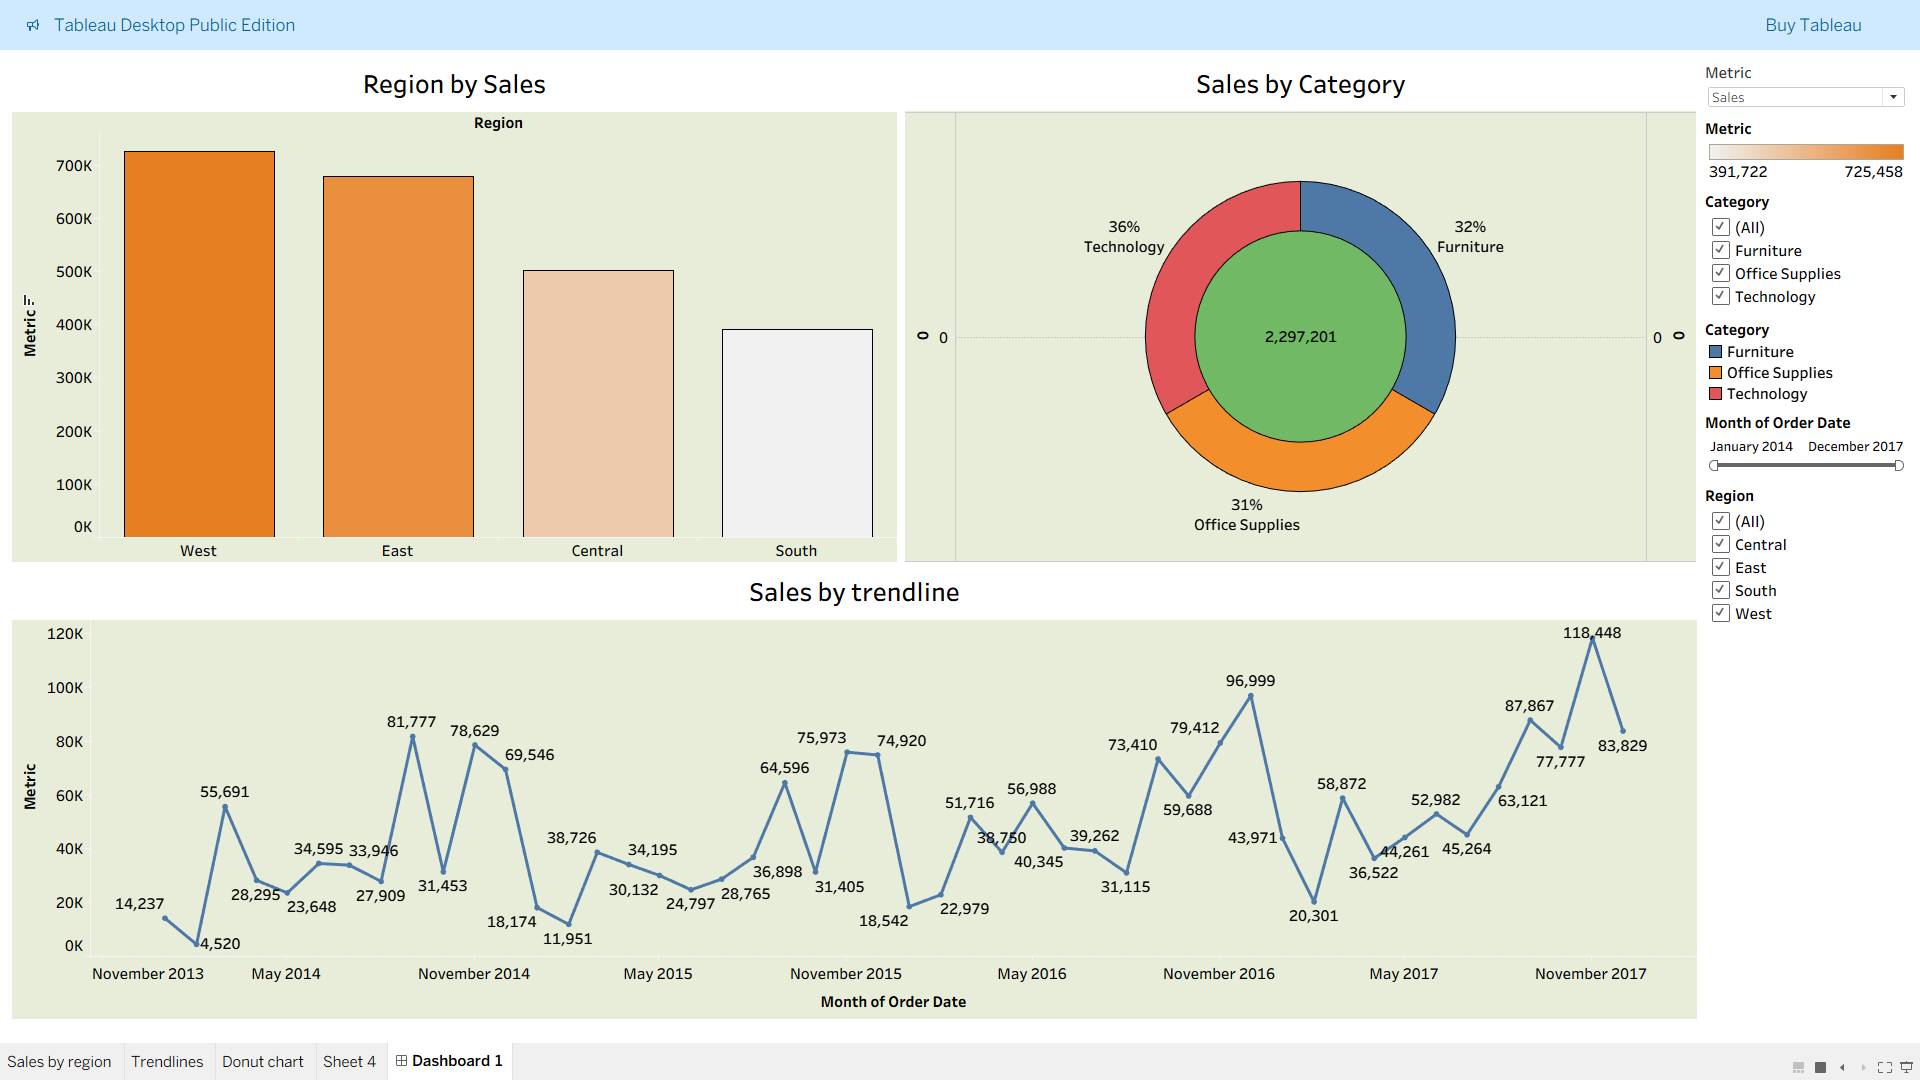

The dashboard page shown, as its layout file describes it:
{"tool":"tableau","page":{"name":"Dashboard 1","canvas":[1000,1000],"units":"permille","ordinal":0},"visuals":[{"type":"worksheet","title":"Sales by region","mark":"Automatic","rows":["Calculation_1356427972934144000"],"cols":["Region"],"box":[4.8,10,455.2,509.3]},{"type":"worksheet","title":"Donut chart","mark":"Pie","rows":["Calculation_1356427972934643714","Calculation_1356427972934656004"],"box":[460,10,407.8,509.3]},{"type":"parameter","param":"[Parameters].[Parameter 1]","box":[867.8,10,127.3,69.9]},{"type":"legend","title":"Sales by region","param":"[federated.14wa6ky1psx4jk1g5do9a17mbfk6].[sum:Calculation_1356427972934144000:qk","box":[867.8,79.9,127.3,91.1]},{"type":"filter","title":"Donut chart","param":"[federated.14wa6ky1psx4jk1g5do9a17mbfk6].[none:Category:nk]","box":[867.8,171.1,127.3,159.8]},{"type":"legend","title":"Donut chart","param":"[federated.14wa6ky1psx4jk1g5do9a17mbfk6].[none:Category:nk]","box":[867.8,330.9,127.3,116.1]},{"type":"filter","title":"Trendlines","param":"[federated.14wa6ky1psx4jk1g5do9a17mbfk6].[tmn:Order Date:qk]","box":[867.8,447,127.3,91.1]},{"type":"worksheet","title":"Trendlines","mark":"Automatic","rows":["Calculation_1356427972934144000"],"cols":["Order Date"],"box":[4.8,519.3,863,470.7]},{"type":"filter","title":"Sales by region","param":"[federated.14wa6ky1psx4jk1g5do9a17mbfk6].[none:Region:nk]","box":[867.8,538.1,127.3,188.5]}]}

Visuals, with their boxes on the dashboard's canvas, which has no fixed pixel size, in thousandths of its width and height (x1, y1, x2, y2). These are canvas units, not pixel positions in the 1920x1080 screenshot, which may show the page scaled, cropped or inside an application window:
"Sales by region" worksheet: 5:10:460:519
"Donut chart" worksheet (Pie marks): 460:10:868:519
parameter: 868:10:995:80
"Sales by region" legend: 868:80:995:171
"Donut chart" filter: 868:171:995:331
"Donut chart" legend: 868:331:995:447
"Trendlines" filter: 868:447:995:538
"Trendlines" worksheet: 5:519:868:990
"Sales by region" filter: 868:538:995:727
